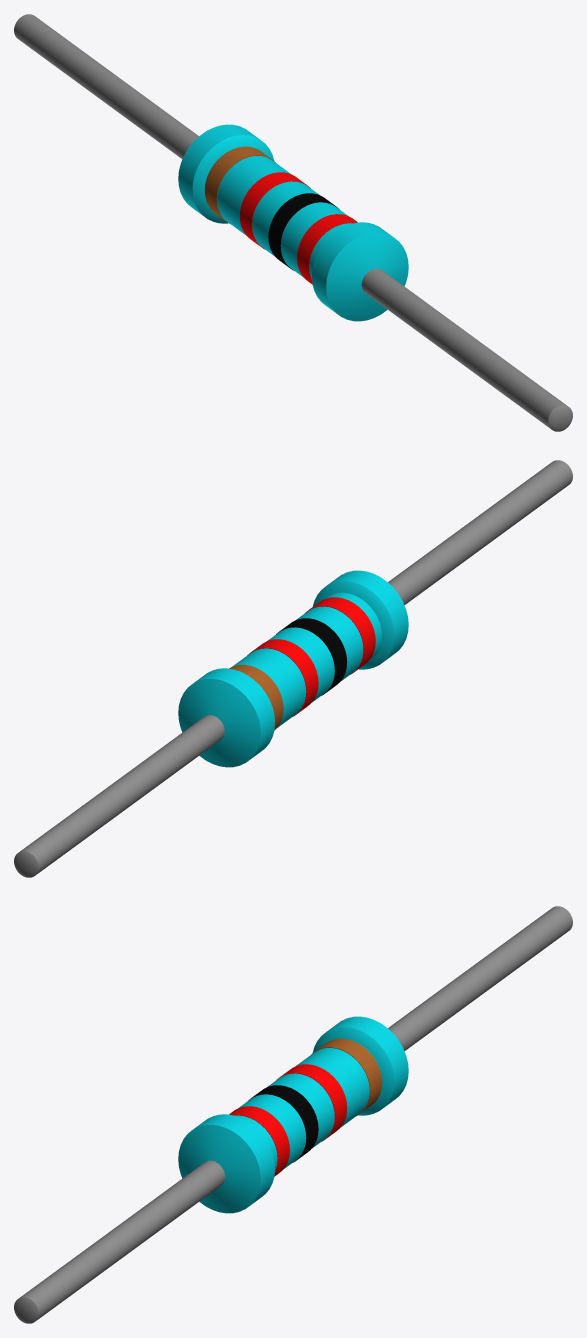
File: uploads_files_4411690_FBX+Resistor.fbx
3 views of the same model, one above another, from view 1: azimuth 30°, elevation 25°; view 2: azimuth 150°, elevation 25°; view 3: azimuth 330°, elevation 25° (orthographic).
Visible parts, largest first — view 1: Body, Tembaga_2, Tembaga, Warna_2, Warna_4, Warna_3, Warna_1; view 2: Body, Tembaga, Tembaga_2, Warna_3, Warna_1, Warna_2, Warna_4; view 3: Body, Tembaga_2, Tembaga, Warna_3, Warna_2, Warna_4, Warna_1.
Boxes of the visible parts, x1=… form: Body: x1=178, y1=124, x2=408, y2=321; Tembaga_2: x1=361, y1=268, x2=572, y2=431; Tembaga: x1=14, y1=14, x2=198, y2=159; Warna_2: x1=268, y1=193, x2=339, y2=270; Warna_4: x1=204, y1=146, x2=275, y2=223; Warna_3: x1=239, y1=172, x2=310, y2=249; Warna_1: x1=297, y1=214, x2=357, y2=284; Body: x1=178, y1=570, x2=408, y2=767; Tembaga: x1=14, y1=715, x2=224, y2=877; Tembaga_2: x1=388, y1=460, x2=572, y2=605; Warna_3: x1=247, y1=639, x2=318, y2=716; Warna_1: x1=305, y1=597, x2=375, y2=674; Warna_2: x1=276, y1=618, x2=347, y2=695; Warna_4: x1=229, y1=664, x2=283, y2=730; Body: x1=178, y1=1016, x2=408, y2=1213; Tembaga_2: x1=14, y1=1160, x2=225, y2=1323; Tembaga: x1=388, y1=906, x2=572, y2=1051; Warna_3: x1=277, y1=1064, x2=347, y2=1141; Warna_2: x1=248, y1=1085, x2=318, y2=1162; Warna_4: x1=311, y1=1038, x2=382, y2=1115; Warna_1: x1=229, y1=1106, x2=289, y2=1176.
Size of the model in its own units: 200 by 200 by 2253.
